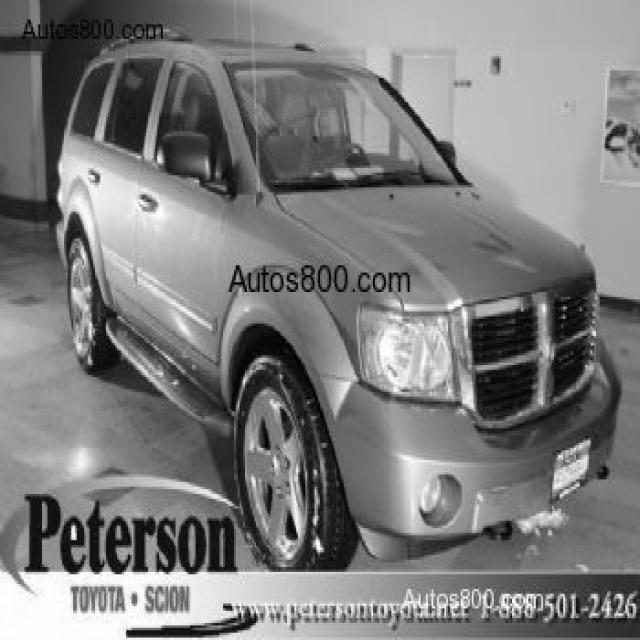car: (53, 24, 622, 570)
